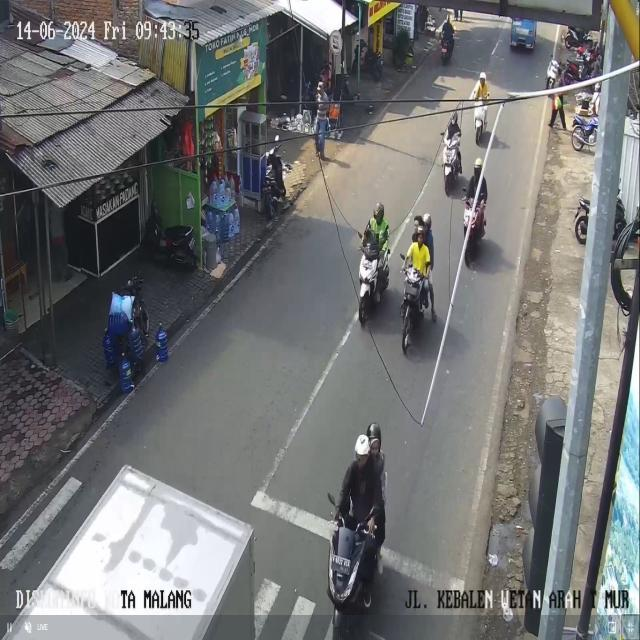Helmet: (355, 434, 369, 455), (366, 422, 380, 443), (373, 202, 383, 216), (423, 213, 431, 230), (414, 215, 423, 226), (474, 158, 482, 168), (450, 112, 457, 123), (594, 83, 601, 92), (479, 72, 486, 80)
Number Plate: (331, 555, 350, 574), (405, 284, 417, 295)
Rearview Mirror: (327, 493, 335, 506), (274, 135, 279, 142), (399, 254, 405, 259)
